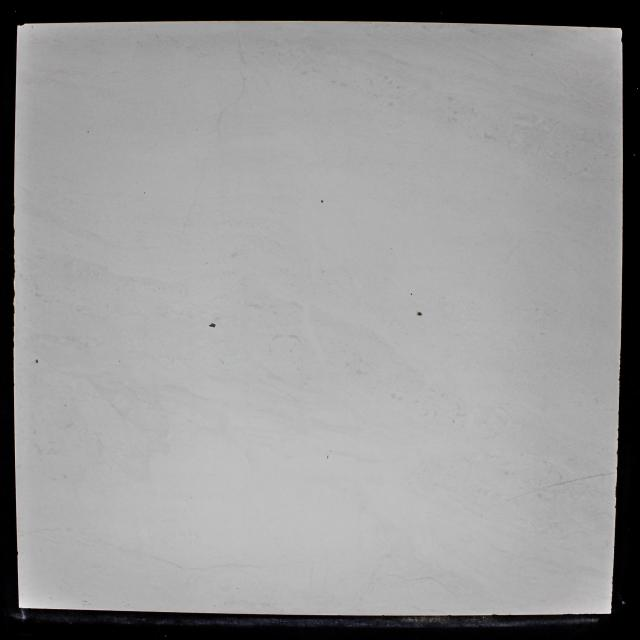edge-chipping: (620, 35, 622, 44), (17, 24, 25, 26)
hole: (209, 323, 216, 328), (416, 311, 423, 316), (35, 359, 39, 363), (320, 200, 324, 203), (326, 455, 329, 459), (143, 192, 146, 194), (410, 293, 413, 295), (87, 131, 89, 133)
line: (520, 488, 543, 496), (561, 477, 586, 484), (586, 472, 615, 478), (544, 484, 560, 488)
